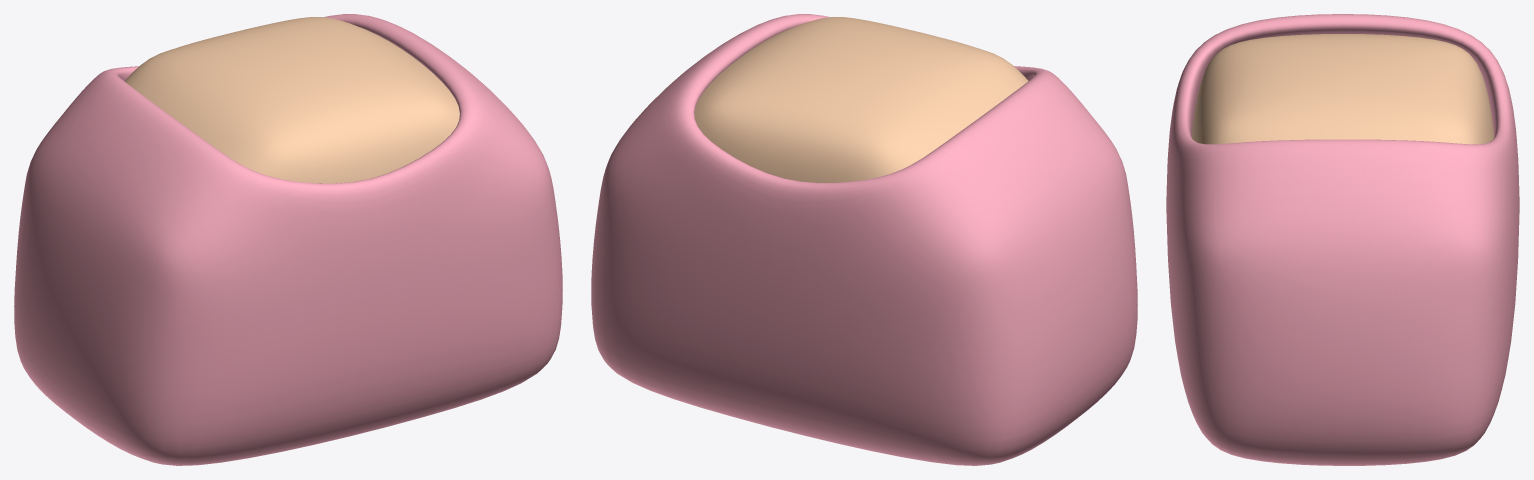
Rendered from girl body.fbx.
3 renders of one model, left to right at view 1: azimuth 30°, elevation 25°; view 2: azimuth 150°, elevation 25°; view 3: azimuth 270°, elevation 25°, orthographic. The views are drawn at different scales.
Parts seen in each view (by area): view 1: girl_body; view 2: girl_body; view 3: girl_body.
Boxes of the visible parts, x1,y1,x2,y2 form: girl_body: (14, 14, 562, 465); girl_body: (591, 14, 1137, 465); girl_body: (1166, 14, 1519, 465).
Size of the model in its own units: 58 by 42.06 by 40.07.
Materials: 2 (2 with a texture image).
